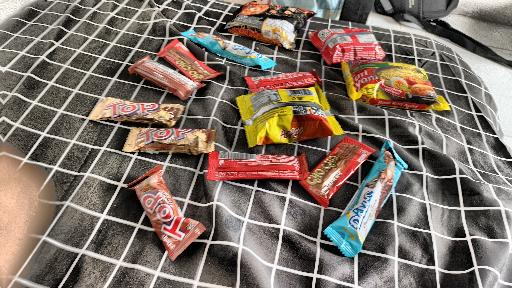chocho: (297, 131, 371, 203), (207, 149, 308, 182), (161, 41, 224, 85)
dilan: (325, 140, 405, 260), (178, 28, 277, 73)
indomie: (340, 52, 443, 113)
mie sedap: (215, 0, 312, 47)
momotaro: (233, 86, 340, 145), (306, 26, 385, 66)
top: (119, 163, 215, 262), (128, 56, 207, 101), (89, 92, 185, 129), (121, 124, 217, 155)
